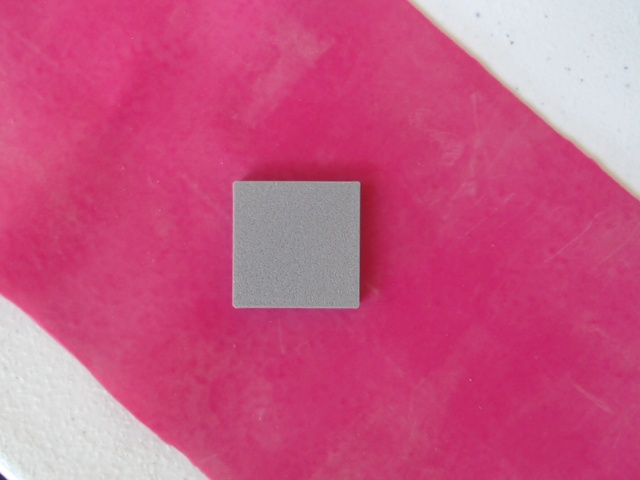Defective: (230, 179, 363, 314)
